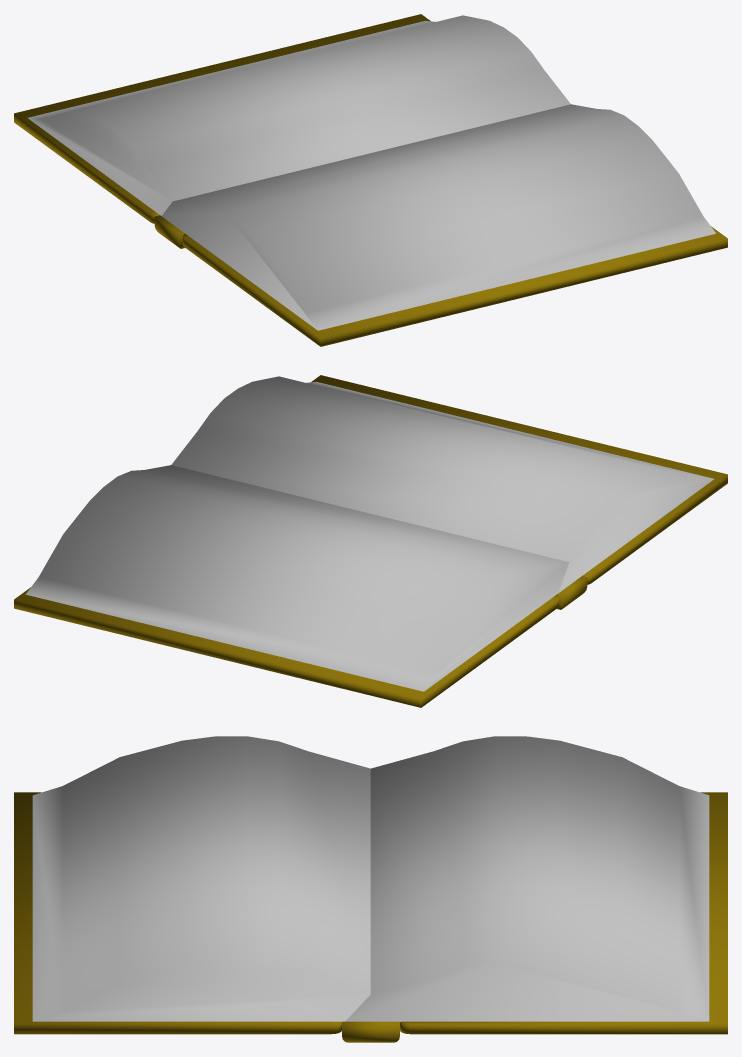
File: OpenBook.fbx
3 views of the same model, one above another, from view 1: azimuth 30°, elevation 25°; view 2: azimuth 150°, elevation 25°; view 3: azimuth 270°, elevation 25° (orthographic). The views are drawn at different scales.
Parts seen in each view (by area): view 1: OpenBook.001; view 2: OpenBook.001; view 3: OpenBook.001.
Part boxes in pixels (bbox=[...]): OpenBook.001: bbox=[14, 14, 727, 346]; OpenBook.001: bbox=[14, 375, 727, 707]; OpenBook.001: bbox=[14, 736, 727, 1042].
Bounding box in the file's own units: 0.1851 × 0.0297 × 0.2398.
